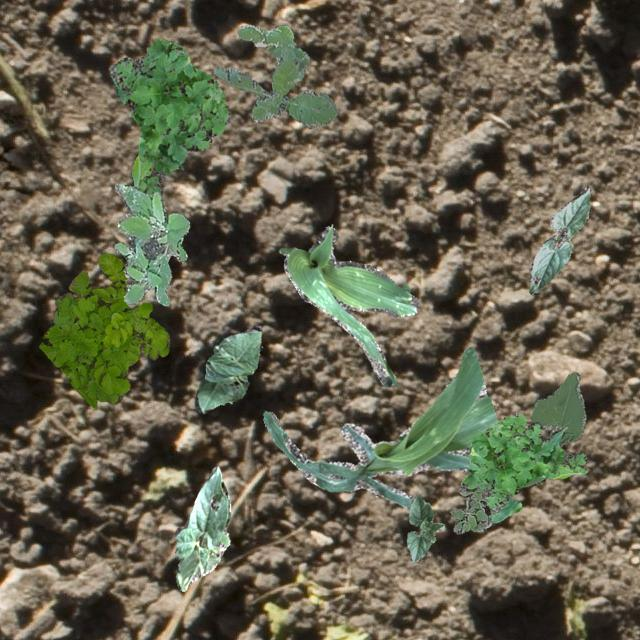crop: (263, 346, 497, 508), (278, 224, 418, 386), (520, 371, 584, 486), (172, 466, 230, 590), (528, 185, 590, 294), (193, 323, 260, 412), (406, 494, 444, 562)
weed: (38, 252, 168, 408), (108, 38, 228, 194), (459, 412, 586, 522), (212, 23, 336, 128), (114, 182, 188, 304), (448, 487, 491, 532)
